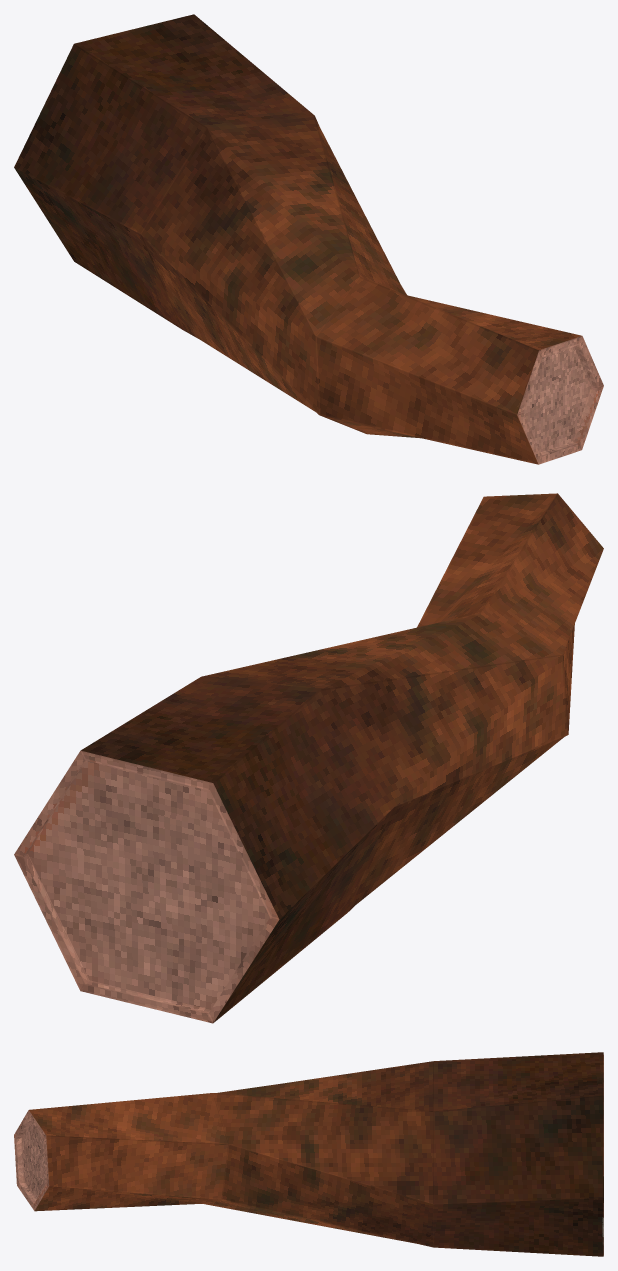
The model's file is log_05.glb.
3 renders of one model, top to bottom at view 1: azimuth 30°, elevation 25°; view 2: azimuth 150°, elevation 25°; view 3: azimuth 270°, elevation 25°, orthographic. The views are drawn at different scales.
Visible parts, largest first — view 1: LOG_05-no-col; view 2: LOG_05-no-col; view 3: LOG_05-no-col.
Boxes of the visible parts, x1,y1,x2,y2 form: LOG_05-no-col: (14, 14, 603, 464); LOG_05-no-col: (14, 493, 603, 1023); LOG_05-no-col: (14, 1052, 603, 1256).
Size of the model in its own units: 1.6 by 1.39 by 4.61.
Materials: 1 (1 with a texture image).
